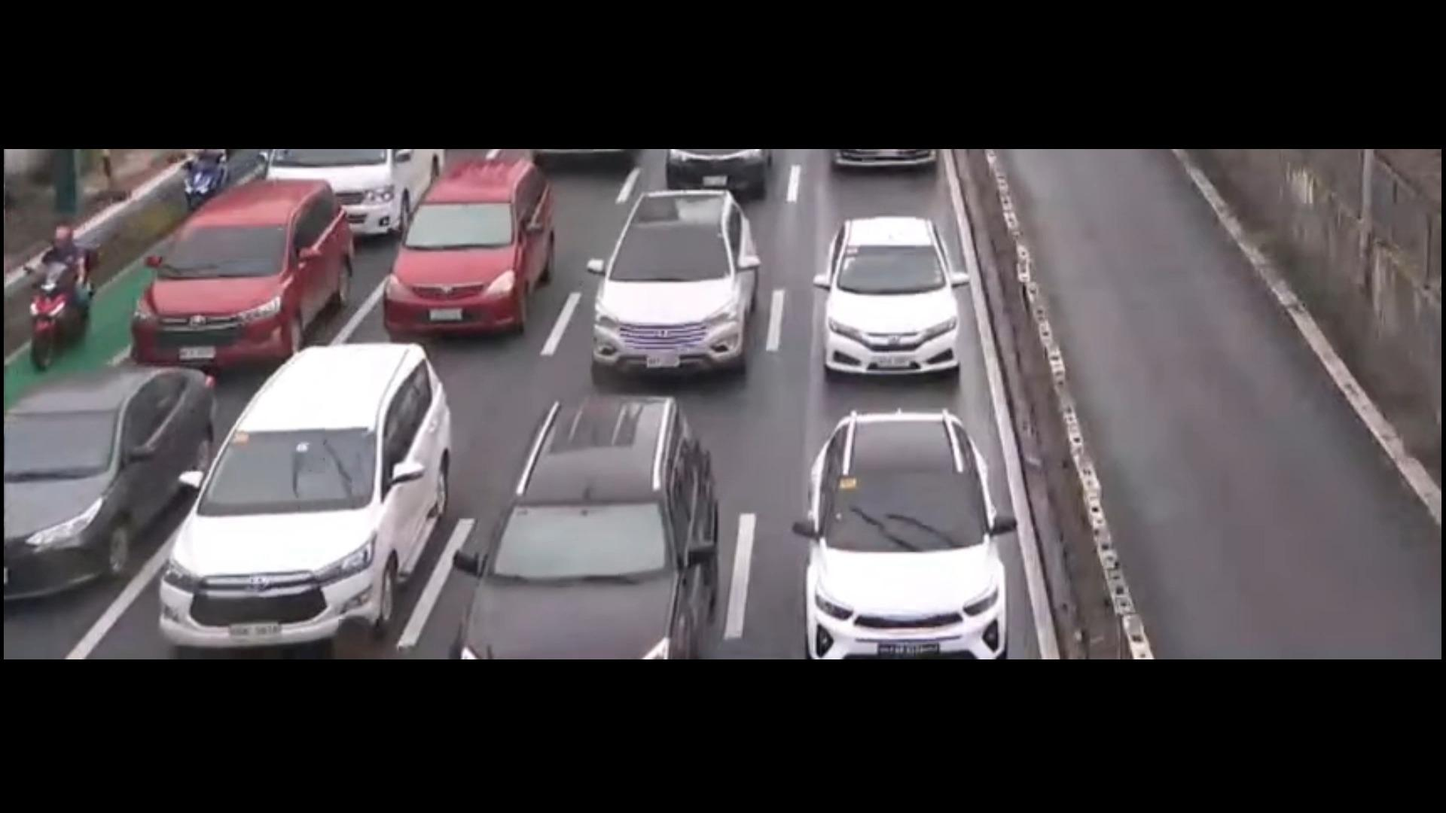Motorcycle: (21, 217, 119, 376), (179, 155, 238, 219)
SUV: (143, 345, 499, 647), (438, 365, 737, 665), (116, 164, 358, 381), (364, 145, 560, 385), (568, 187, 793, 391)
Sedan: (757, 390, 1043, 659), (0, 350, 228, 633), (798, 177, 987, 403)
